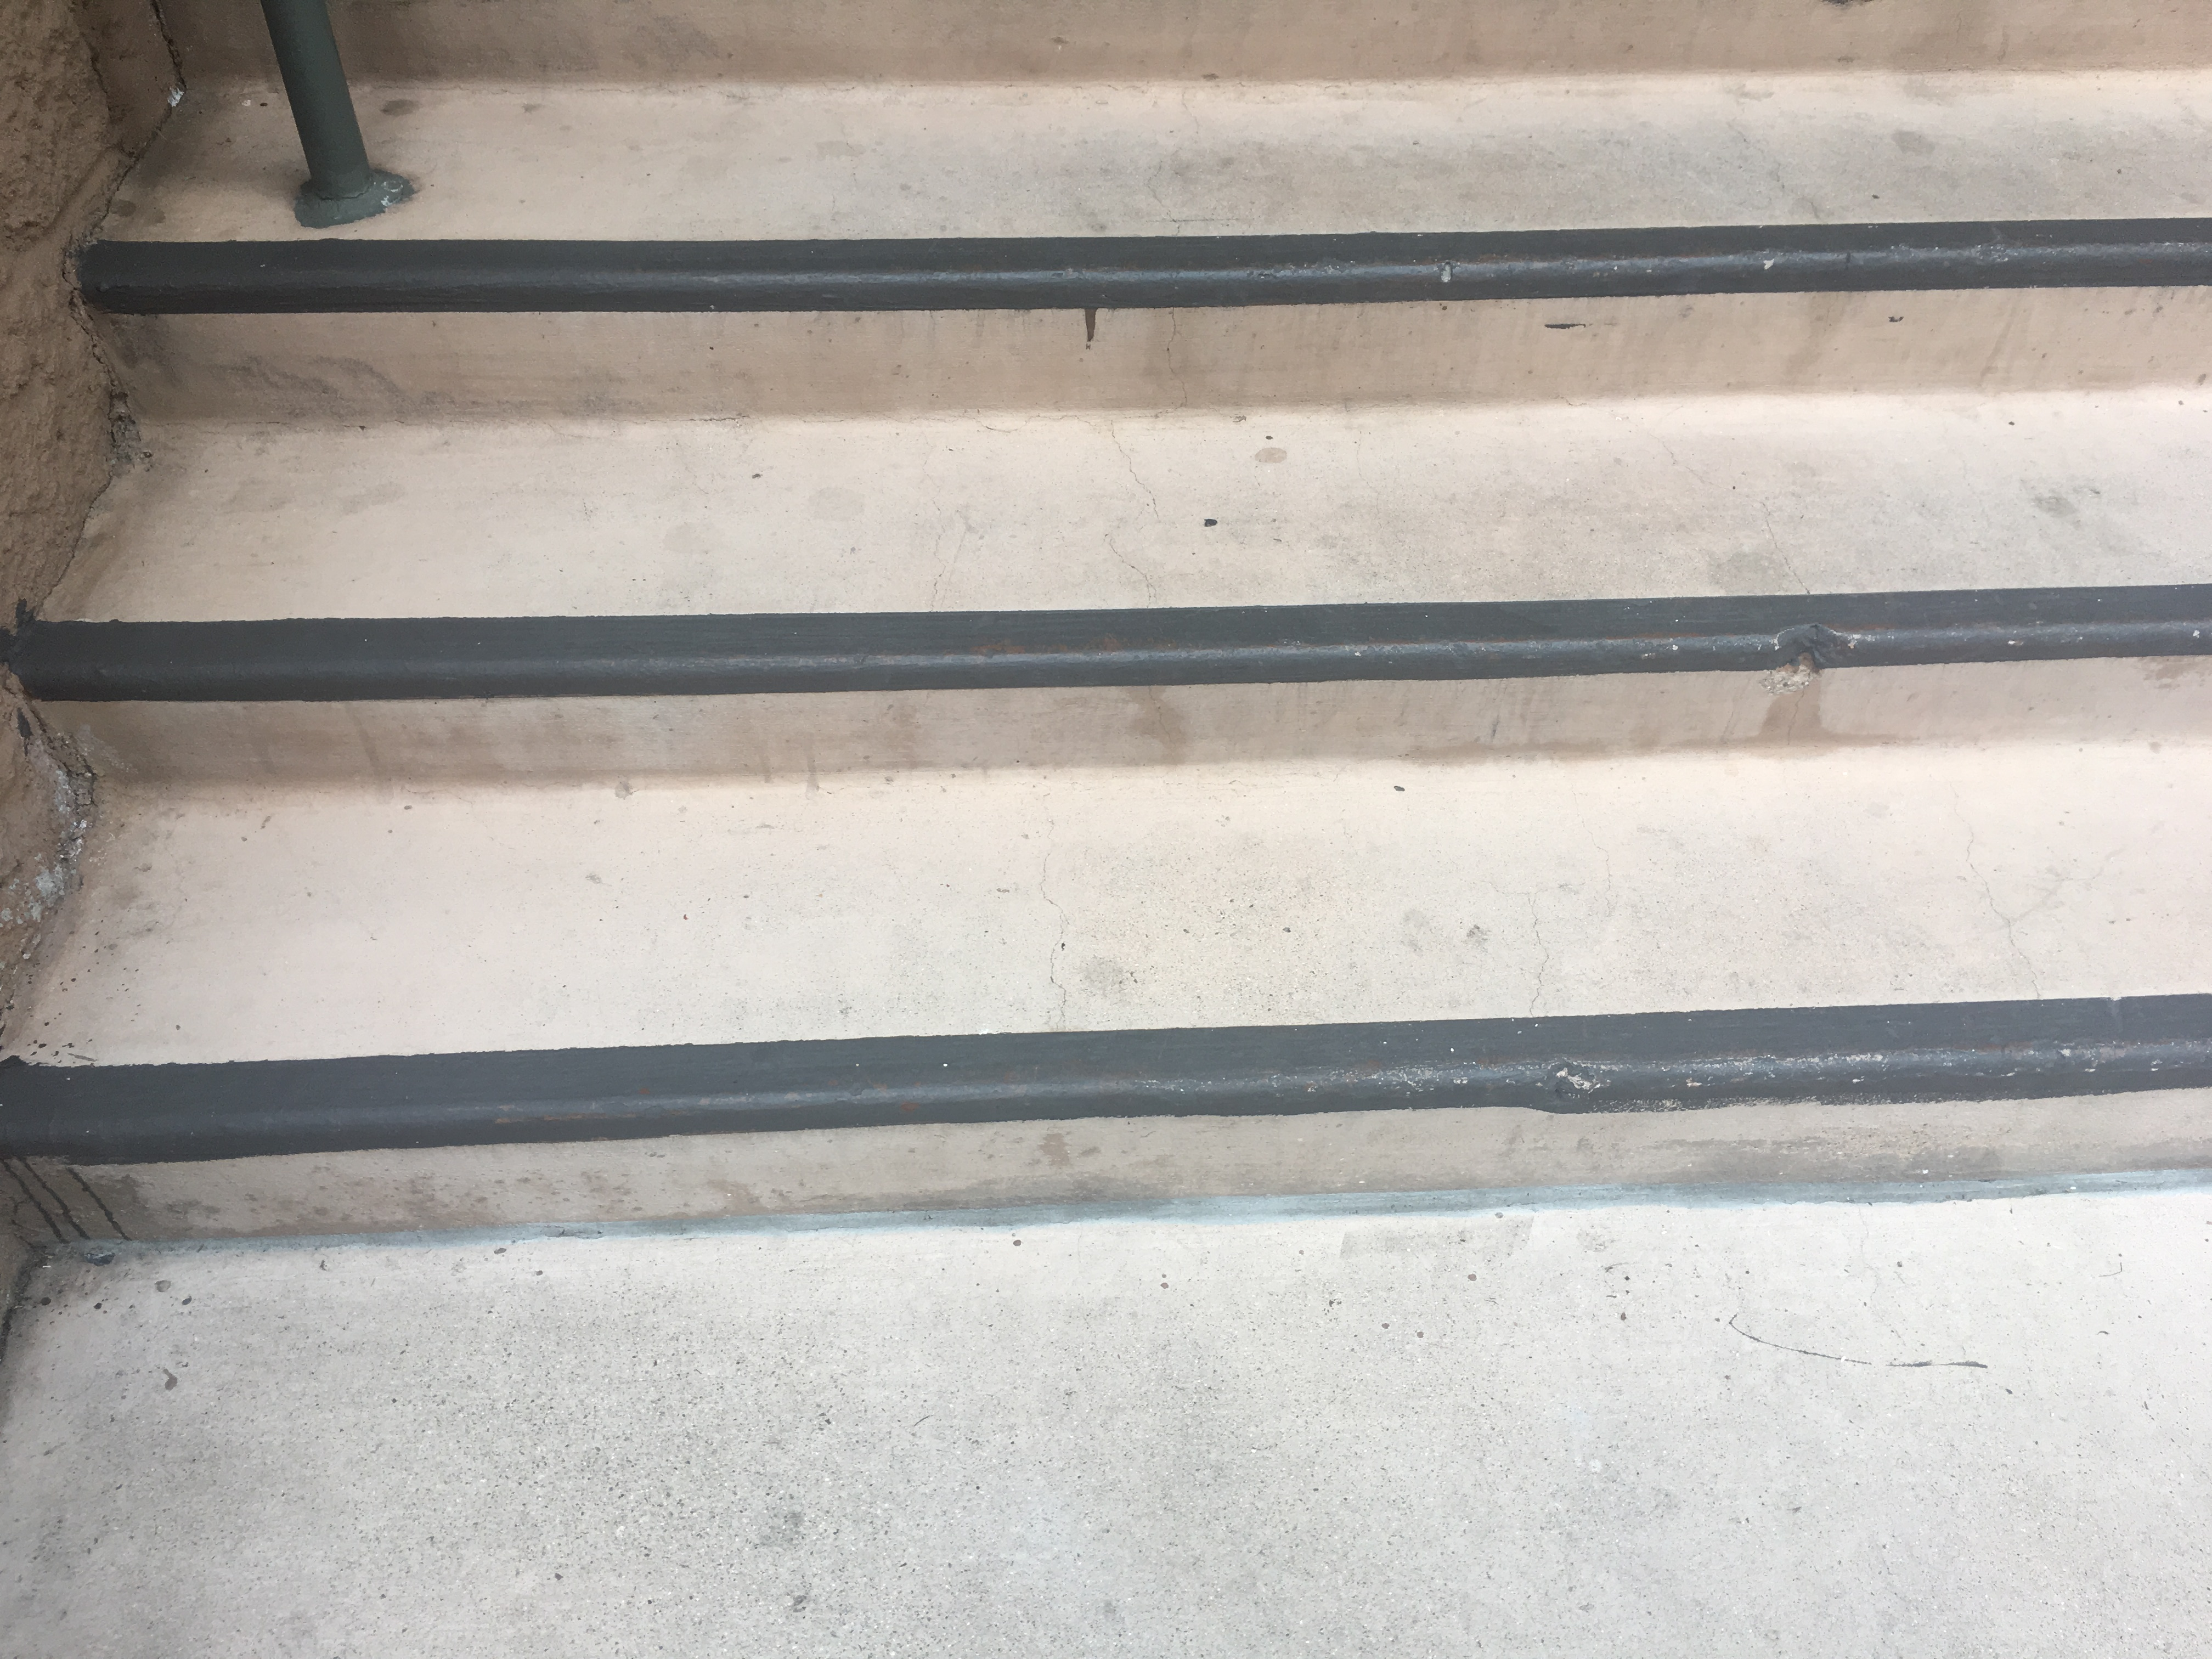Obstacle: (23, 985, 2209, 1260), (40, 559, 2212, 824), (52, 214, 2203, 408), (261, 9, 408, 195)
